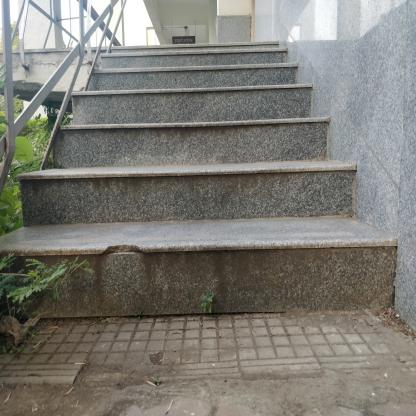stairs: (89, 56, 303, 325)
